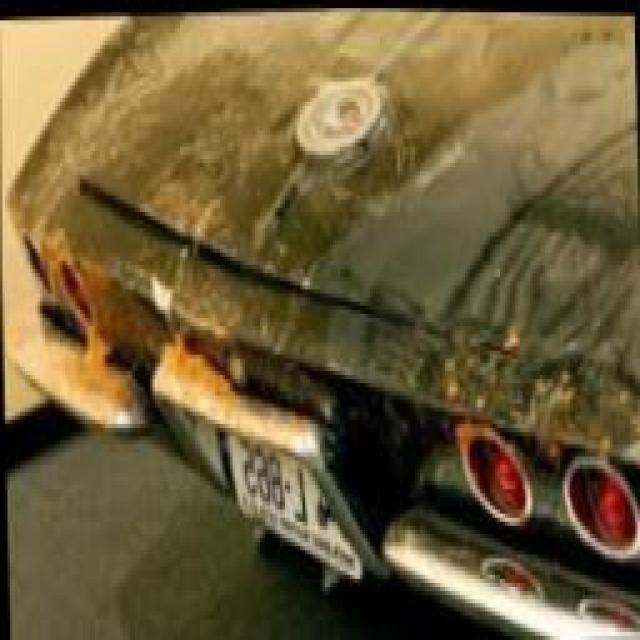Dickey: (65, 19, 639, 370)
